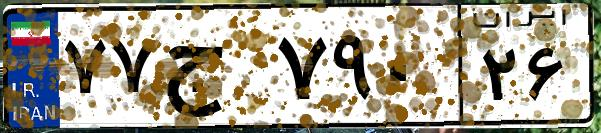0: (385, 28, 445, 110)
2: (475, 38, 525, 113)
6: (525, 38, 570, 115)
7: (270, 28, 330, 110), (57, 26, 110, 100), (110, 28, 158, 98)
9: (330, 28, 385, 110)
ج: (158, 20, 270, 120)
